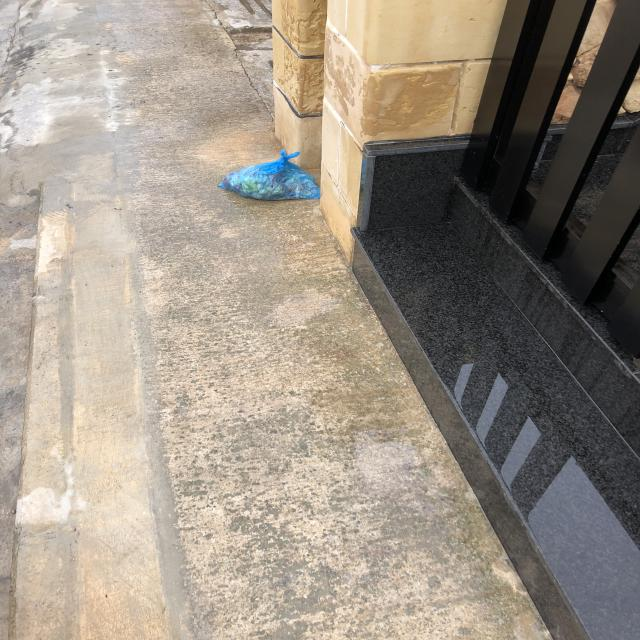Other: (218, 151, 322, 203)
